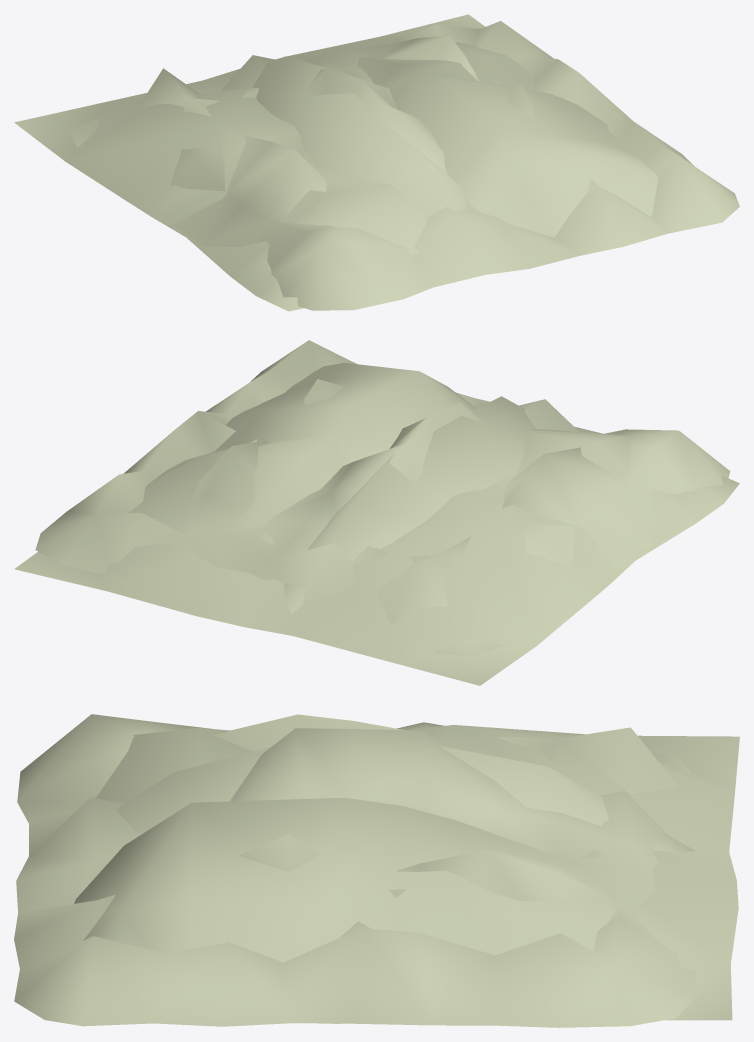
Rendered from Water_Waves.FBX.
3 views of the same model, one above another, from view 1: azimuth 30°, elevation 25°; view 2: azimuth 150°, elevation 25°; view 3: azimuth 270°, elevation 25° (orthographic). The views are drawn at different scales.
Parts seen in each view (by area): view 1: Water_Waves01, Water_Waves03, Water_Waves02; view 2: Water_Waves01, Water_Waves03, Water_Waves02; view 3: Water_Waves03, Water_Waves01, Water_Waves02.
Part boxes in pixels (left/top/right/bottom): Water_Waves01: left=14, top=14, right=658, bottom=311; Water_Waves03: left=70, top=21, right=739, bottom=310; Water_Waves02: left=230, top=56, right=503, bottom=217; Water_Waves01: left=14, top=363, right=739, bottom=685; Water_Waves03: left=35, top=340, right=730, bottom=656; Water_Waves02: left=250, top=396, right=536, bottom=613; Water_Waves03: left=14, top=714, right=696, bottom=1027; Water_Waves01: left=74, top=725, right=739, bottom=1023; Water_Waves02: left=116, top=746, right=695, bottom=898.
Size of the model in its own units: 6.63 by 6.89 by 1.39.
